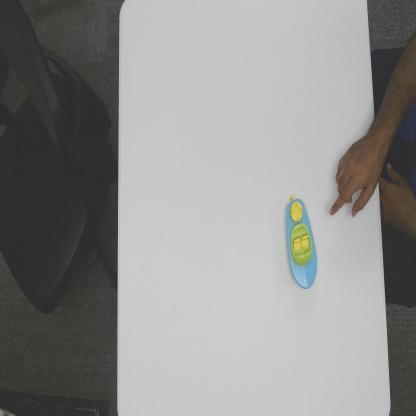Boat: (284, 191, 318, 291)
Hand: (328, 128, 379, 220)
